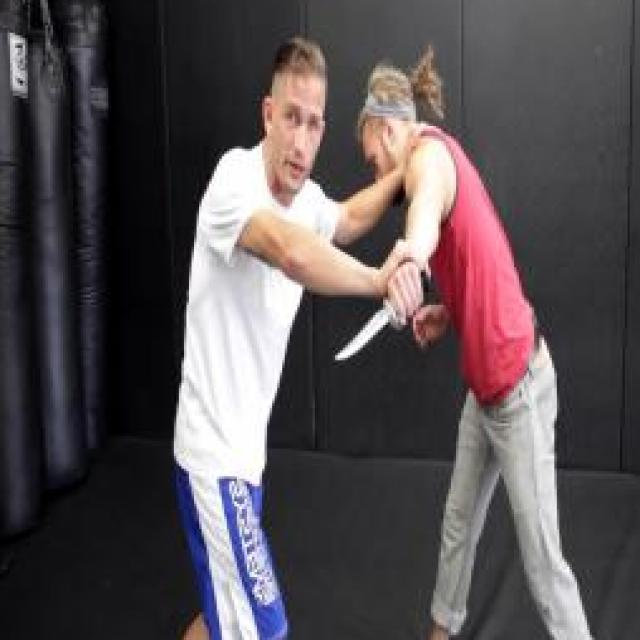knife: (330, 267, 433, 372)
